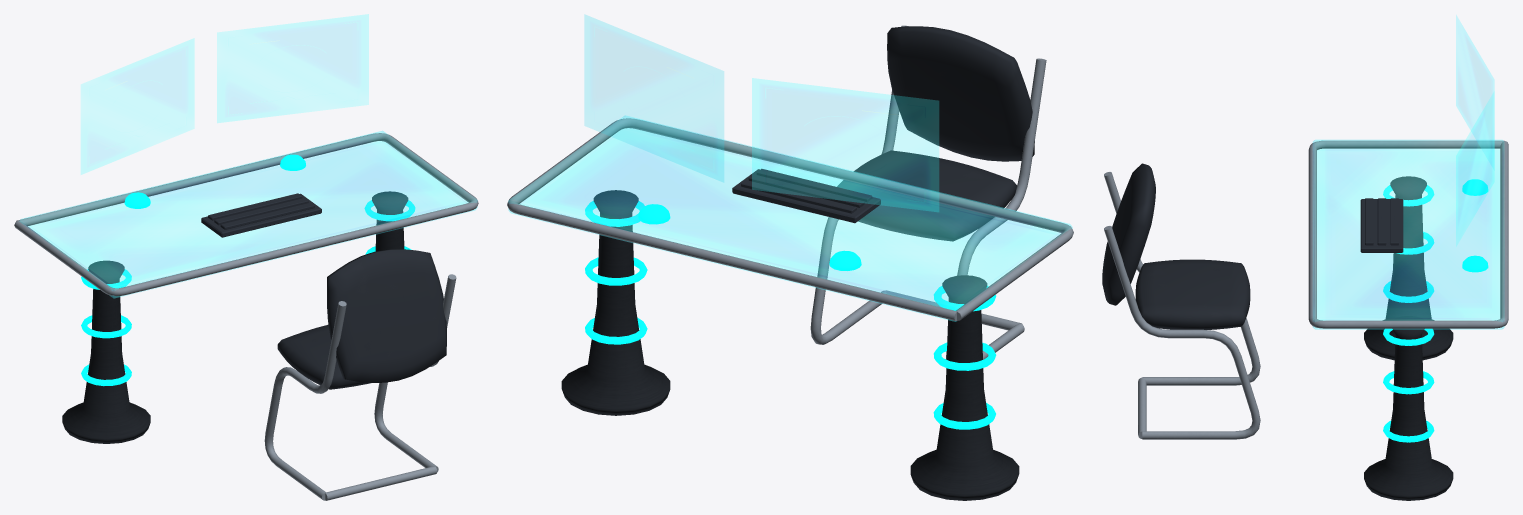
File: desk_r1_03.glb
3 renders of one model, left to right at view 1: azimuth 30°, elevation 25°; view 2: azimuth 150°, elevation 25°; view 3: azimuth 270°, elevation 25°, orthographic. The views are drawn at different scales.
Visible parts, largest first — view 1: Desk03_SmokedGlassTop, Desk03_FloatingHoloScreen1, Desk03_LoungeBack, Desk03_FloatingHoloScreen0, Desk03_MagLevPylons, Desk03_SteelEdgeFrame, Desk03_CantileverChairFrame, Desk03_KeyPad, Desk03_LoungeSeat, Desk03_CyanInductionRings; view 2: Desk03_SmokedGlassTop, Desk03_MagLevPylons, Desk03_FloatingHoloScreen0, Desk03_FloatingHoloScreen1, Desk03_LoungeBack, Desk03_SteelEdgeFrame, Desk03_LoungeSeat, Desk03_CantileverChairFrame, Desk03_KeyPad, Desk03_CyanInductionRings; view 3: Desk03_SmokedGlassTop, Desk03_MagLevPylons, Desk03_LoungeSeat, Desk03_SteelEdgeFrame, Desk03_CantileverChairFrame, Desk03_LoungeBack, Desk03_FloatingHoloScreen1, Desk03_FloatingHoloScreen0, Desk03_CyanInductionRings, Desk03_KeyPad.
Part boxes in pixels (bbox=[...]): Desk03_SmokedGlassTop: bbox=[19, 131, 477, 298]; Desk03_FloatingHoloScreen1: bbox=[217, 14, 368, 122]; Desk03_LoungeBack: bbox=[327, 249, 446, 382]; Desk03_FloatingHoloScreen0: bbox=[81, 38, 194, 174]; Desk03_MagLevPylons: bbox=[62, 191, 408, 443]; Desk03_SteelEdgeFrame: bbox=[14, 133, 478, 296]; Desk03_CantileverChairFrame: bbox=[264, 274, 456, 500]; Desk03_KeyPad: bbox=[201, 193, 321, 237]; Desk03_LoungeSeat: bbox=[277, 324, 370, 389]; Desk03_CyanInductionRings: bbox=[81, 200, 415, 386]; Desk03_SmokedGlassTop: bbox=[508, 115, 1072, 321]; Desk03_MagLevPylons: bbox=[561, 190, 1019, 500]; Desk03_FloatingHoloScreen0: bbox=[752, 78, 938, 211]; Desk03_FloatingHoloScreen1: bbox=[584, 15, 723, 182]; Desk03_LoungeBack: bbox=[887, 26, 1034, 161]; Desk03_SteelEdgeFrame: bbox=[507, 118, 1073, 320]; Desk03_LoungeSeat: bbox=[837, 150, 1016, 241]; Desk03_CantileverChairFrame: bbox=[810, 25, 1046, 359]; Desk03_KeyPad: bbox=[732, 168, 880, 223]; Desk03_CyanInductionRings: bbox=[585, 201, 996, 429]; Desk03_SmokedGlassTop: bbox=[1313, 140, 1504, 329]; Desk03_MagLevPylons: bbox=[1364, 176, 1453, 500]; Desk03_LoungeSeat: bbox=[1135, 259, 1250, 329]; Desk03_SteelEdgeFrame: bbox=[1308, 140, 1508, 328]; Desk03_CantileverChairFrame: bbox=[1104, 172, 1260, 439]; Desk03_LoungeBack: bbox=[1102, 163, 1155, 305]; Desk03_FloatingHoloScreen1: bbox=[1456, 92, 1494, 246]; Desk03_FloatingHoloScreen0: bbox=[1456, 15, 1494, 168]; Desk03_CyanInductionRings: bbox=[1383, 185, 1434, 442]; Desk03_KeyPad: bbox=[1360, 198, 1403, 252].
Size of the model in its own units: 1.63 by 1.36 by 1.53.
7 materials, 7 textured.
